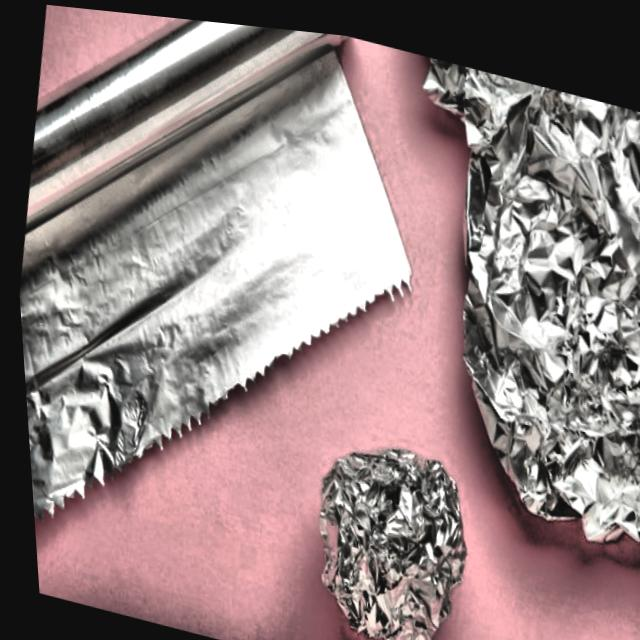Foil: (0, 0, 468, 640), (340, 39, 640, 576), (270, 418, 508, 640)
